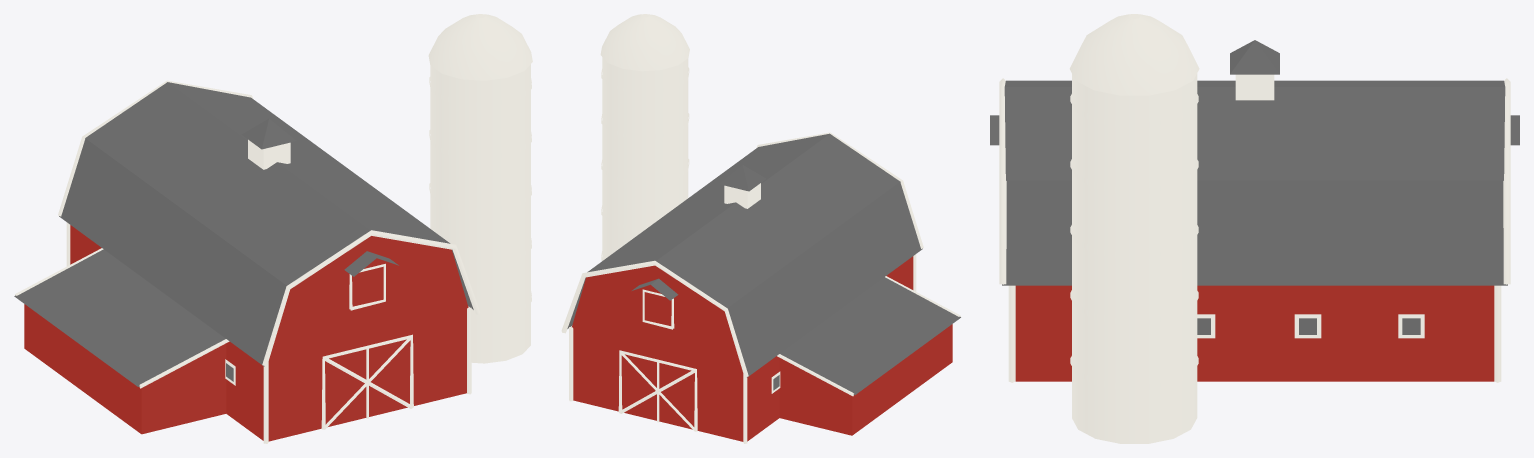
Rendered from Blender_RedBarn_1.glb.
The picture shows the model from 3 angles, left to right: view 1: azimuth 30°, elevation 25°; view 2: azimuth 150°, elevation 25°; view 3: azimuth 270°, elevation 25°; orthographic projection. The views are drawn at different scales.
Parts seen in each view (by area): view 1: Blender_RedBarn_1; view 2: Blender_RedBarn_1; view 3: Blender_RedBarn_1.
Boxes of the visible parts, <box> form: Blender_RedBarn_1: <box>14,14,532,443</box>; Blender_RedBarn_1: <box>561,14,960,443</box>; Blender_RedBarn_1: <box>990,14,1519,443</box>.
Bounding box in the file's own units: 23.63 × 18.48 × 22.
